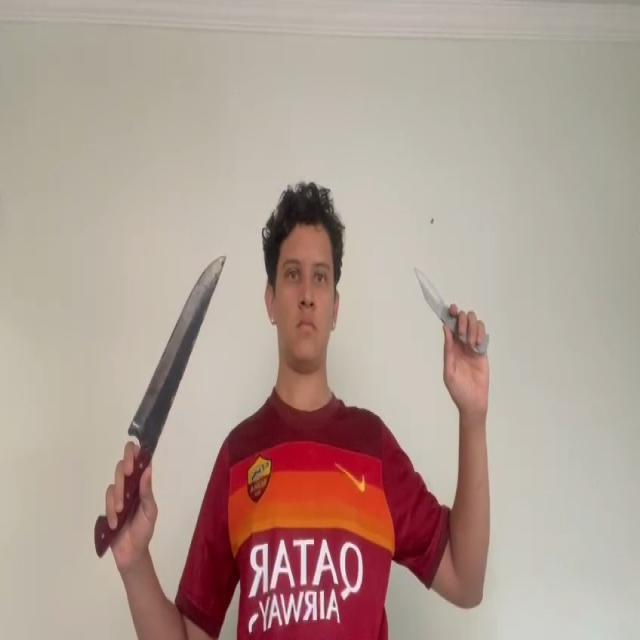knife: (129, 254, 227, 438), (414, 264, 442, 314)
